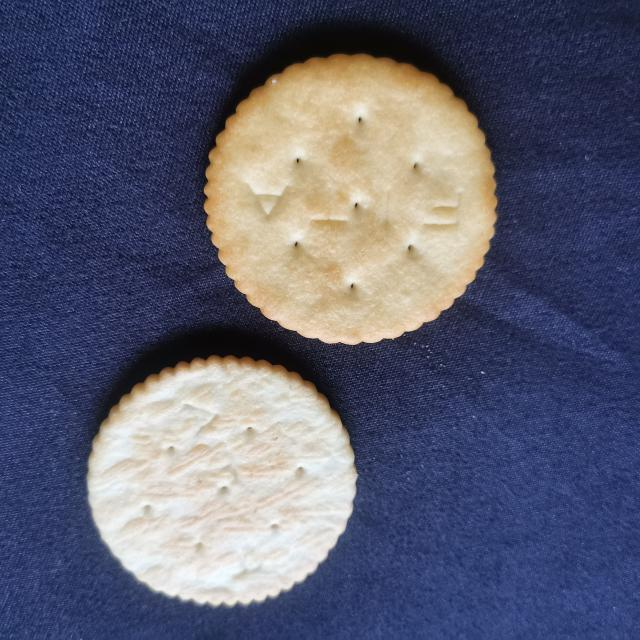Intact: (189, 44, 506, 356), (73, 344, 365, 614)
